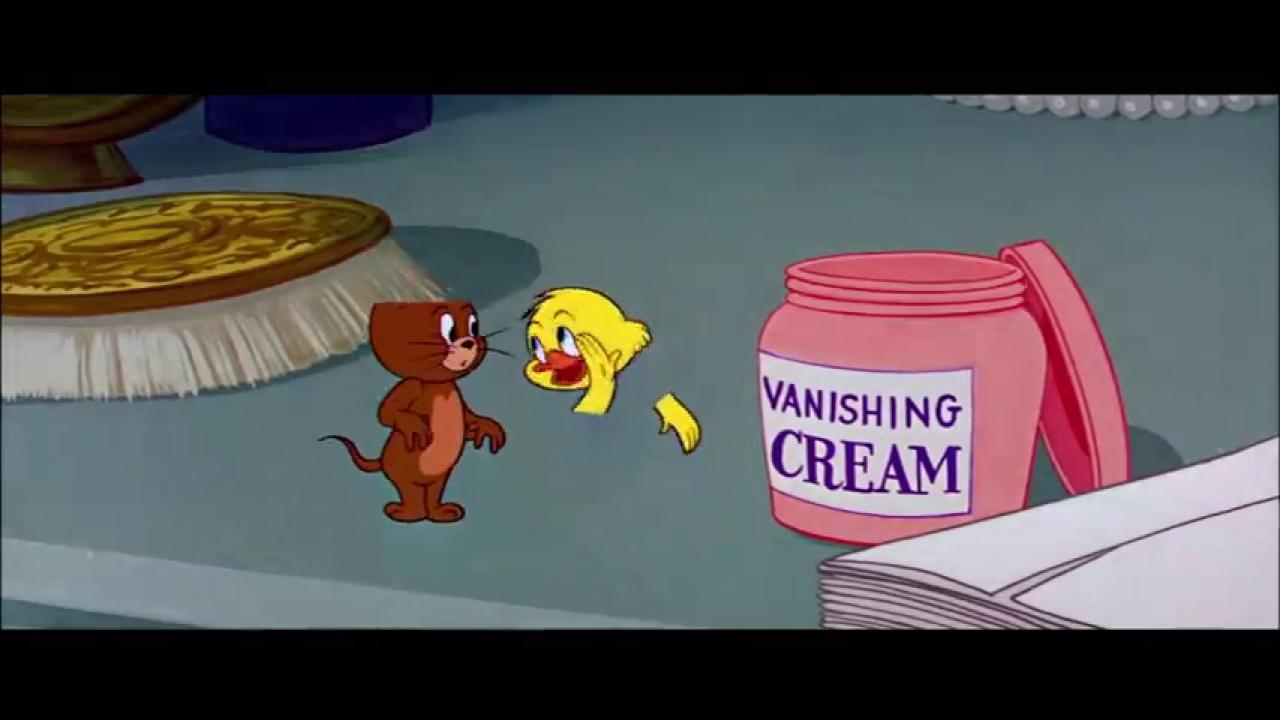Jerry: (316, 298, 508, 525)
